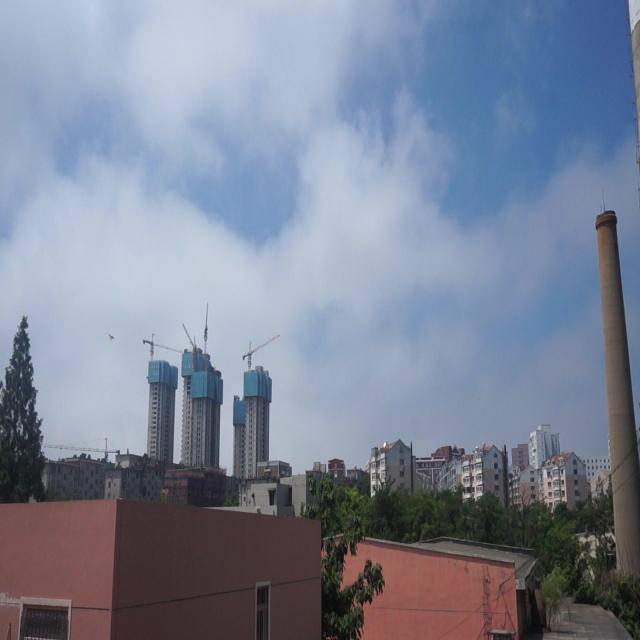drone: (108, 329, 116, 343)
